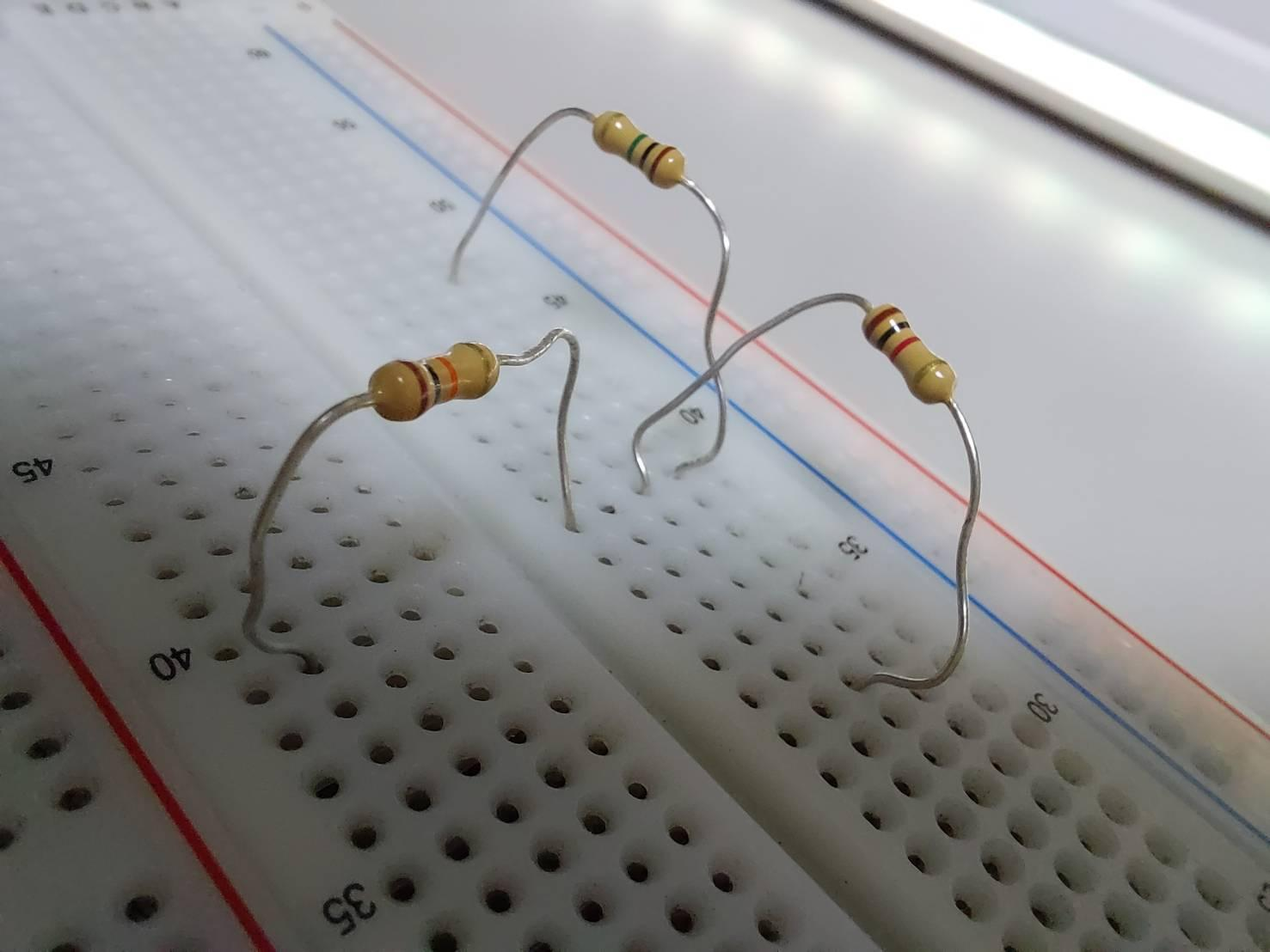resistor: (843, 293, 980, 414), (362, 331, 508, 423), (579, 100, 697, 195)
